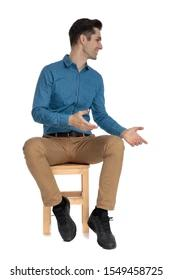long sleeve shirt: (30, 51, 129, 137)
trousers: (21, 132, 126, 210)
